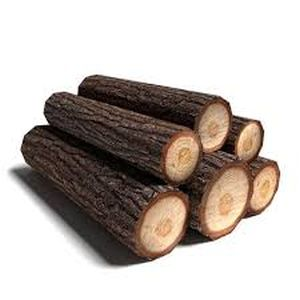log: (202, 161, 250, 241), (136, 190, 186, 258), (161, 126, 199, 185), (197, 94, 232, 152), (253, 161, 281, 215), (236, 118, 263, 160)
